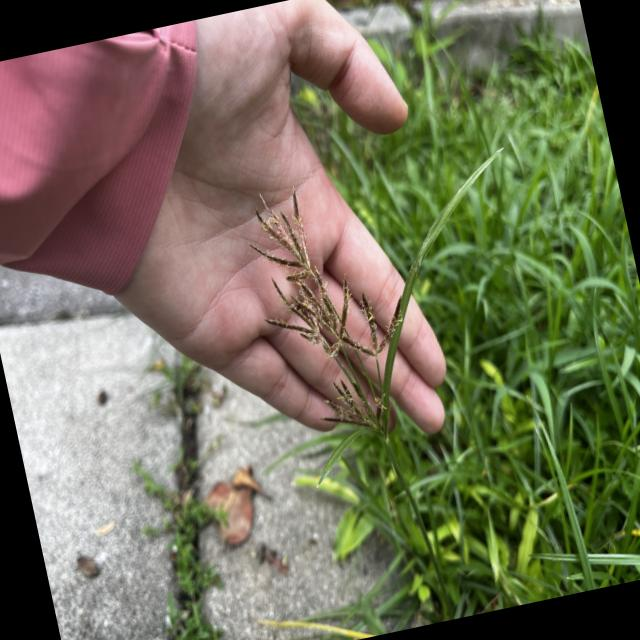cyperus: (238, 165, 430, 458)
